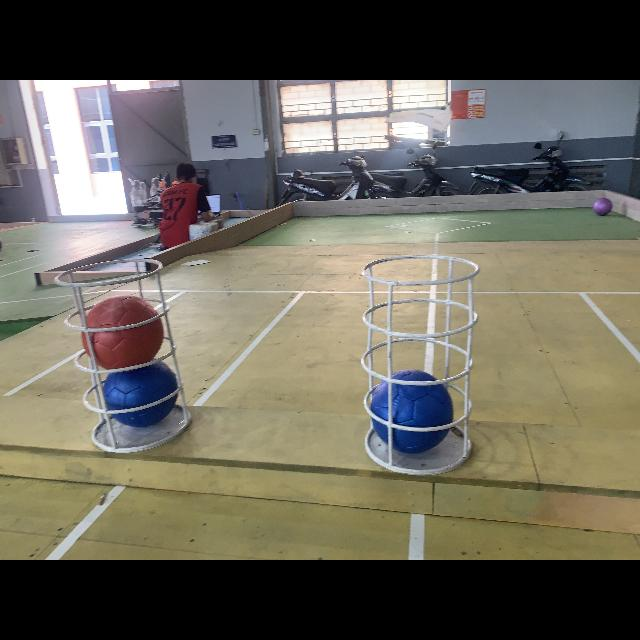B: (373, 368, 453, 454), (105, 358, 179, 428)
R: (82, 294, 164, 370)
